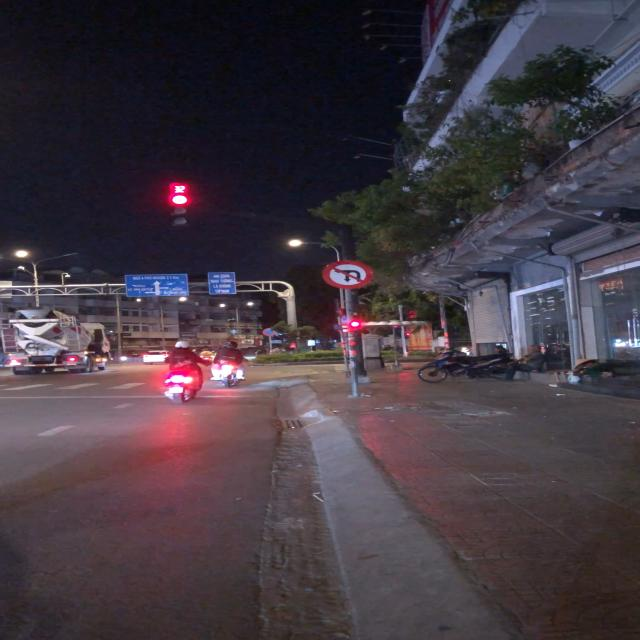Bien bao cam re trai va quay dau: (321, 260, 376, 291)
